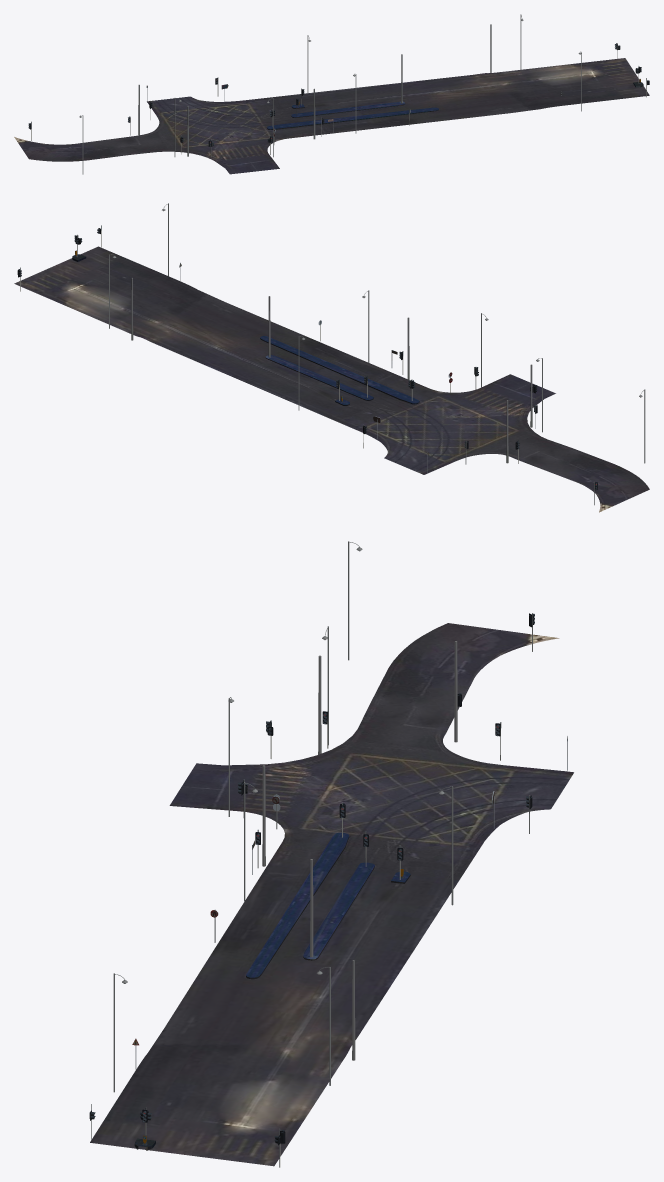
Rendered from western-market.glb.
The picture shows the model from 3 angles, top to bottom: view 1: azimuth 30°, elevation 25°; view 2: azimuth 150°, elevation 25°; view 3: azimuth 270°, elevation 25°; orthographic projection. The views are drawn at different scales.
Parts seen in each view (by area): view 1: western-market; view 2: western-market; view 3: western-market.
Boxes of the visible parts, bbox=[...] form: western-market: bbox=[14, 14, 649, 174]; western-market: bbox=[14, 203, 649, 512]; western-market: bbox=[89, 541, 573, 1167].
Bounding box in the file's own units: 110 × 11.49 × 41.73.
8 materials, 8 textured.
